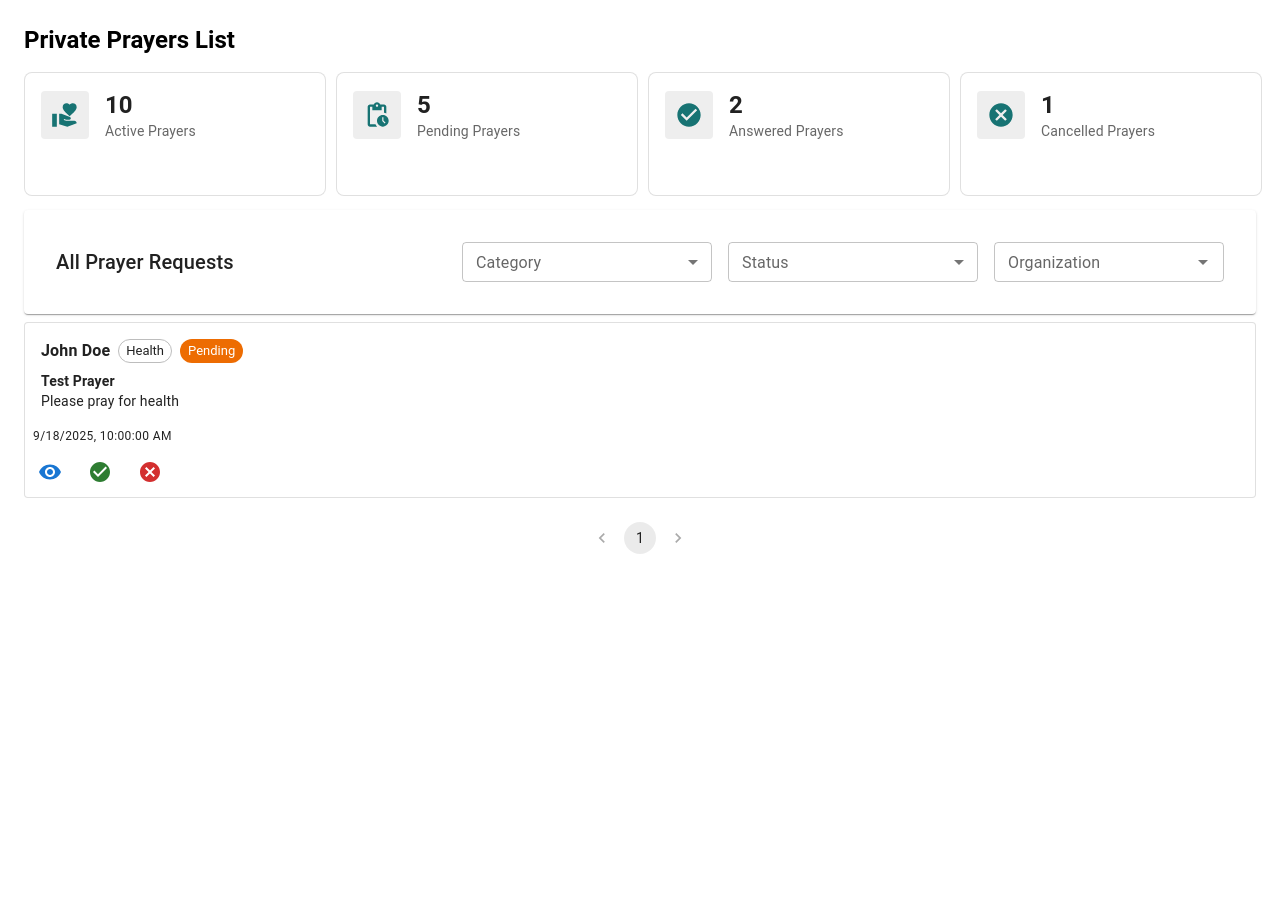
PrivatePrayers Component › opens view prayer modal on click
Click the button named "View" at [50, 472], box [33,455,67,489]
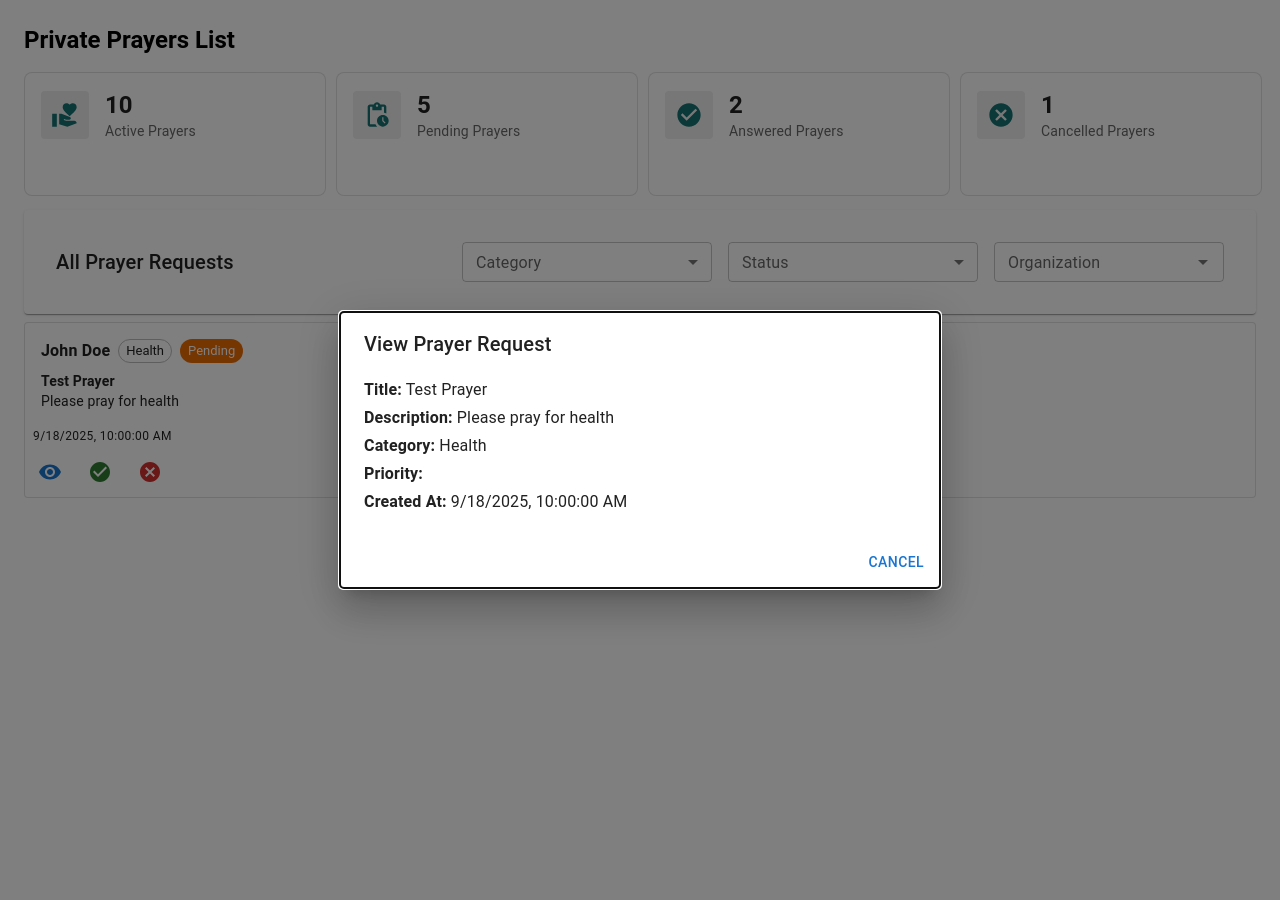
Expected: the text "Title:" is shown, [364,380,402,399]
Expected: the text "Description:" is shown, [364,408,453,427]
Expected: the text "Category:" is shown, [364,436,435,455]
